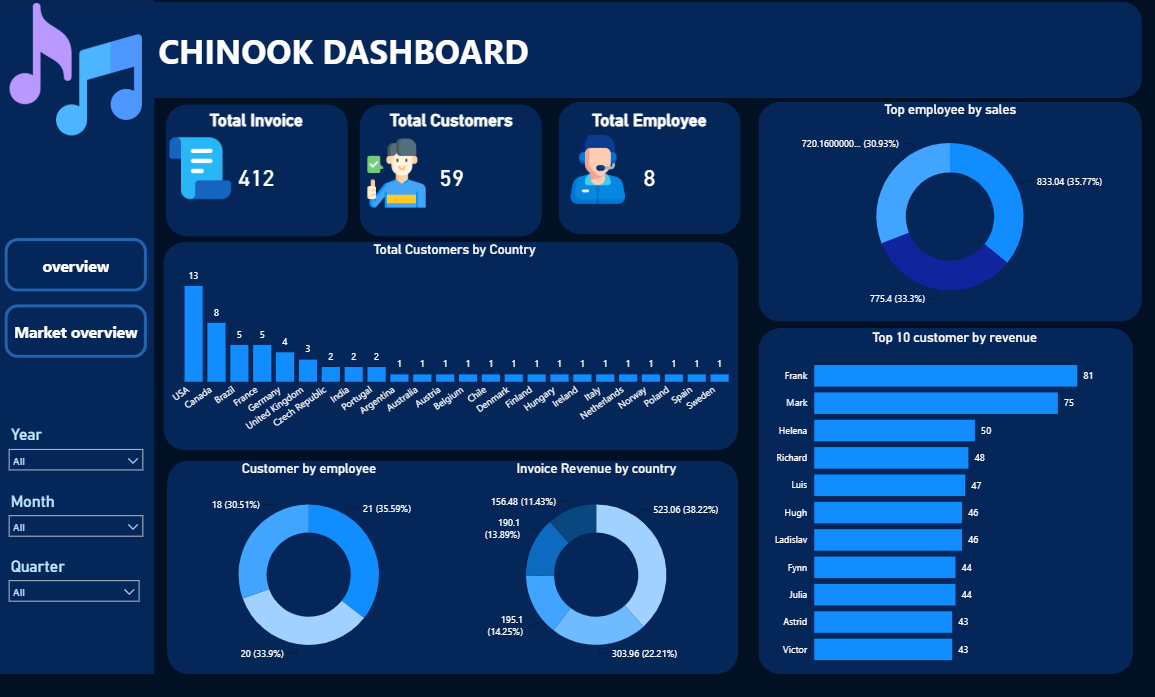

What the dashboard file says about the page in this screenshot:
{"tool":"powerbi","page":{"name":"Customers & Employee","canvas":[1500,900],"ordinal":2},"visuals":[{"type":"shape","box":[213.9,313.6,739.7,268.5],"z":0},{"type":"shape","box":[979.3,133.5,493.7,283],"z":1000},{"type":"shape","box":[466.3,136.7,234.8,170.5],"z":2000},{"type":"shape","box":[722,133.5,234.8,170.5],"z":3000},{"type":"shape","box":[217.1,136.7,234.8,170.5],"z":4000},{"type":"shape","box":[0,4.8,1473,123.8],"z":5000},{"type":"shape","box":[0,0,202.6,870],"z":6000},{"type":"textbox","box":[203.3,33.3,498.3,73.3],"z":7000},{"type":"image","box":[10,6.7,183.3,170],"z":8000},{"type":"card","title":"Total Invoice","fields":{"Values":["_Measures.Total Invoices"]},"box":[218.7,144.7,230,146.3],"z":9000},{"type":"card","title":"Total Customers","fields":{"Values":["_Measures.Total Customers"]},"box":[487.2,144.7,194.6,146.3],"z":10000},{"type":"slicer","fields":{"Values":["invoice.InvoiceDate.Variation.Date Hierarchy.Year"]},"box":[4.8,544.7,193,78.8],"z":11000},{"type":"slicer","fields":{"Values":["invoice.InvoiceDate.Variation.Date Hierarchy.Quarter"]},"box":[4.8,713.6,188.1,77.2],"z":12000},{"type":"slicer","fields":{"Values":["employee.HireDate.Variation.Date Hierarchy.Month"]},"box":[4.8,630,193,77.2],"z":13000},{"type":"shape","title":"market overview","box":[9.6,308.4,183.3,69.1],"z":14000},{"type":"card","title":"Total Employee","fields":{"Values":["_Measures.Total Employees"]},"box":[741.3,144.7,196.2,146.3],"z":15000},{"type":"shape","title":"market overview","box":[9.6,393.6,183.3,69.1],"z":16000},{"type":"shape","box":[979.3,424.5,482.4,445.4],"z":17000},{"type":"donutChart","title":"Top employee by sales","fields":{"Category":["employee.FirstName"],"Y":["Sum(invoiceline.Total Sales)"]},"box":[990.6,133.5,471.2,276.6],"z":18000},{"type":"barChart","title":"Top 10 customer by revenue","fields":{"Category":["customer.FirstName"],"Y":["_Measures.Revenue"]},"box":[990.6,426.1,482.4,445.4],"z":19000},{"type":"clusteredColumnChart","fields":{"Y":["_Measures.Total Customers"],"Category":["customer.Country"]},"box":[218.7,313.6,739.7,257.3],"z":20000},{"type":"shape","box":[218.7,595,734.9,275],"z":21000},{"type":"donutChart","title":"Customer by employee","fields":{"Category":["employee.Full Name"],"Y":["CountNonNull(customer.CustomerId)"]},"box":[218.7,595,365,275],"z":22000},{"type":"donutChart","title":"Invoice Revenue by country","fields":{"Category":["invoice.BillingCountry"],"Y":["Sum(invoice.Total)"]},"box":[588.6,595,365,275],"z":23000},{"type":"image","box":[217.1,170.5,88.4,96.5],"z":24000},{"type":"image","box":[469.6,176.9,88.4,96.5],"z":25000},{"type":"image","box":[728.5,172.1,88.4,96.5],"z":26000}]}

Visuals, with their boxes in screenshot pixels (x1, y1, x2, y2), scaled from the page's 1500x900 canvas onto the 1155x697 screenshot:
shape: 165:243:734:451
shape: 754:103:1134:323
shape: 359:106:540:238
shape: 556:103:737:235
shape: 167:106:348:238
shape: 0:4:1134:100
shape: 0:0:156:674
textbox: 157:26:540:83
image: 8:5:149:137
"Total Invoice" card: 168:112:345:225
"Total Customers" card: 375:112:525:225
slicer - invoice.InvoiceDate.Variation.Date Hierarchy.Year: 4:422:152:483
slicer - invoice.InvoiceDate.Variation.Date Hierarchy.Quarter: 4:553:149:612
slicer - employee.HireDate.Variation.Date Hierarchy.Month: 4:488:152:548
"market overview" shape: 7:239:149:292
"Total Employee" card: 571:112:722:225
"market overview" shape: 7:305:149:358
shape: 754:329:1126:674
"Top employee by sales" donutChart: 763:103:1126:318
"Top 10 customer by revenue" barChart: 763:330:1134:675
clusteredColumnChart - _Measures.Total Customers x customer.Country: 168:243:738:442
shape: 168:461:734:674
"Customer by employee" donutChart: 168:461:449:674
"Invoice Revenue by country" donutChart: 453:461:734:674
image: 167:132:235:207
image: 362:137:430:212
image: 561:133:629:208
